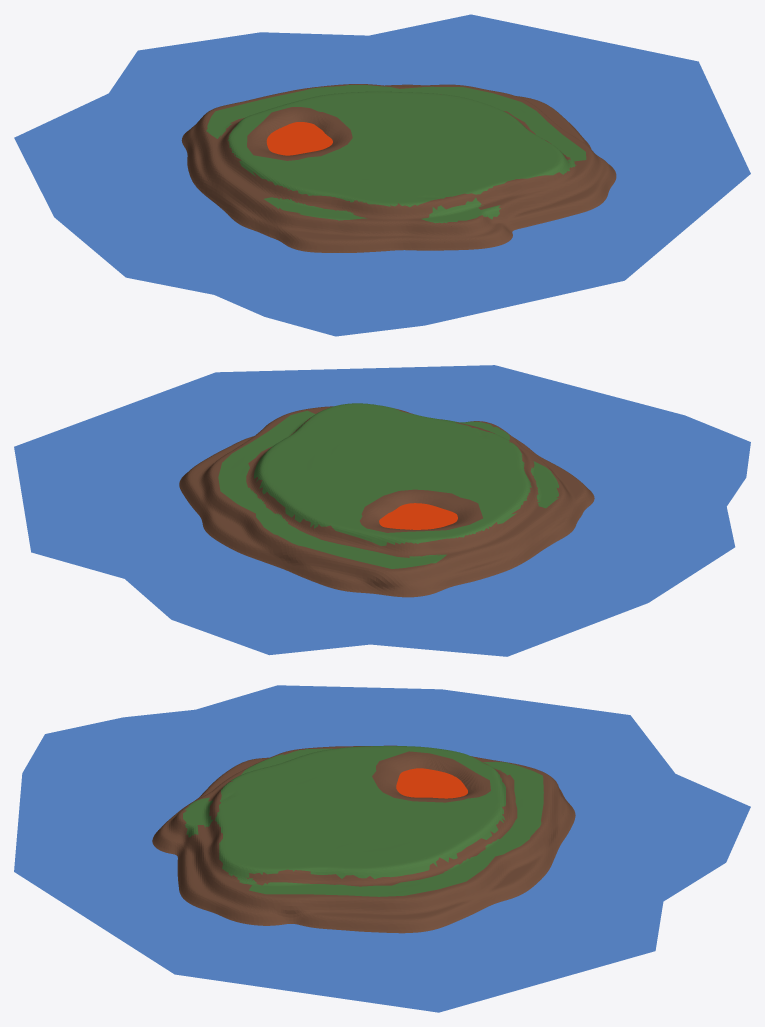
File: hub_terrain_prototype.glb
3 views of the same model, one above another, from view 1: azimuth 30°, elevation 25°; view 2: azimuth 150°, elevation 25°; view 3: azimuth 270°, elevation 25° (orthographic). The views are drawn at different scales.
Visible parts, largest first — view 1: Plane.002, Plane, Plane.001; view 2: Plane.002, Plane, Plane.001; view 3: Plane.002, Plane, Plane.001.
Part boxes in pixels (left/top/right/bottom): Plane.002: left=14, top=14, right=750, bottom=336; Plane: left=181, top=84, right=616, bottom=252; Plane.001: left=266, top=122, right=332, bottom=155; Plane.002: left=14, top=365, right=750, bottom=656; Plane: left=179, top=403, right=594, bottom=597; Plane.001: left=379, top=503, right=457, bottom=529; Plane.002: left=14, top=685, right=750, bottom=1012; Plane: left=152, top=745, right=575, bottom=933; Plane.001: left=396, top=768, right=467, bottom=798.
Size of the model in its own units: 3.33 by 0.15 by 3.17.
